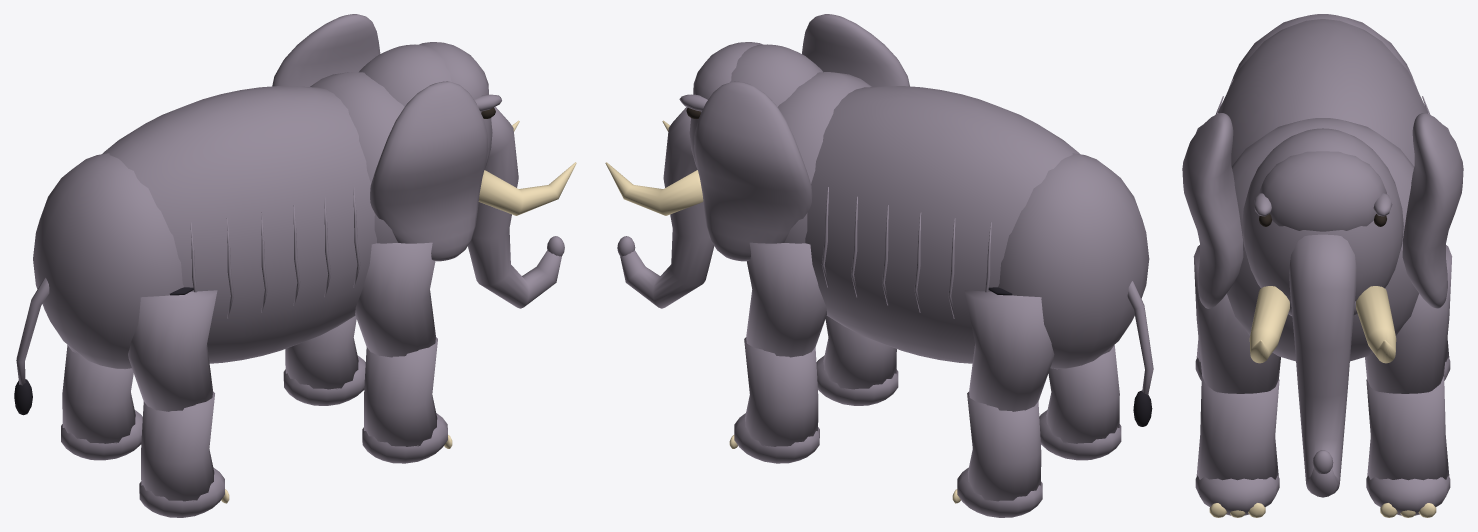
The model's file is amb.elephant.glb.
3 views of the same model, side by side, from view 1: azimuth 30°, elevation 25°; view 2: azimuth 150°, elevation 25°; view 3: azimuth 270°, elevation 25° (orthographic). The views are drawn at different scales.
Parts seen in each view (by area): view 1: body, hip, earR, legBR, head, legFR, trunk, shinR, foreArmR, shinL, earL, foreArmL (+5 smaller); view 2: body, hip, earL, legBL, head, legFL, trunk, foreArmL, shinL, shinR, earR, foreArmR (+5 smaller); view 3: body, head, trunk, earL, earR, foreArmL, foreArmR, legFR, legFL, pawFR, pawFL, hip (+1 smaller).
Boxes of the visible parts, box(x1,y1,x2,y2) form: body: box(102, 72, 404, 363); hip: box(33, 153, 183, 369); earR: box(370, 81, 488, 261); legBR: box(128, 290, 217, 411); head: box(359, 42, 576, 215); legFR: box(355, 242, 435, 357); trunk: box(468, 106, 561, 308); shinR: box(141, 391, 214, 501); foreArmR: box(364, 337, 437, 446); shinL: box(62, 345, 135, 443); earL: box(272, 14, 380, 86); foreArmL: box(285, 315, 358, 389); body: box(777, 72, 1079, 363); hip: box(998, 153, 1149, 369); earL: box(694, 81, 812, 261); legBL: box(964, 290, 1054, 411); head: box(605, 42, 822, 215); legFL: box(746, 242, 826, 357); trunk: box(620, 107, 714, 308); foreArmL: box(744, 337, 818, 446); shinL: box(967, 392, 1041, 501); shinR: box(1046, 345, 1119, 443); earR: box(802, 14, 909, 86); foreArmR: box(823, 316, 896, 389); body: box(1215, 19, 1430, 361); head: box(1242, 128, 1403, 363); trunk: box(1289, 234, 1356, 497); earL: box(1402, 113, 1463, 308); earR: box(1182, 113, 1243, 308); foreArmL: box(1366, 376, 1449, 480); foreArmR: box(1196, 376, 1279, 480); legFR: box(1193, 245, 1280, 393); legFL: box(1365, 245, 1452, 393); pawFR: box(1195, 475, 1279, 517); pawFL: box(1366, 475, 1450, 517); hip: box(1229, 14, 1416, 87).
Size of the model in its own units: 4.61 by 3.04 by 1.91.
